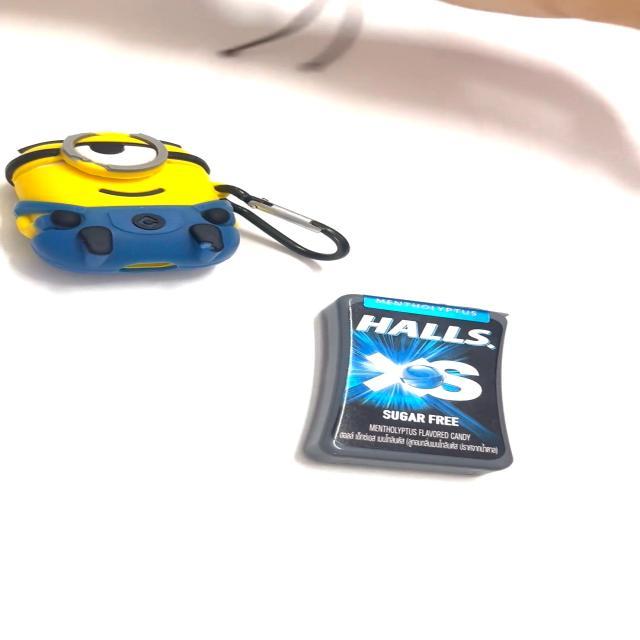airpod minion: (0, 124, 368, 282)
mint hall: (290, 290, 522, 476)
